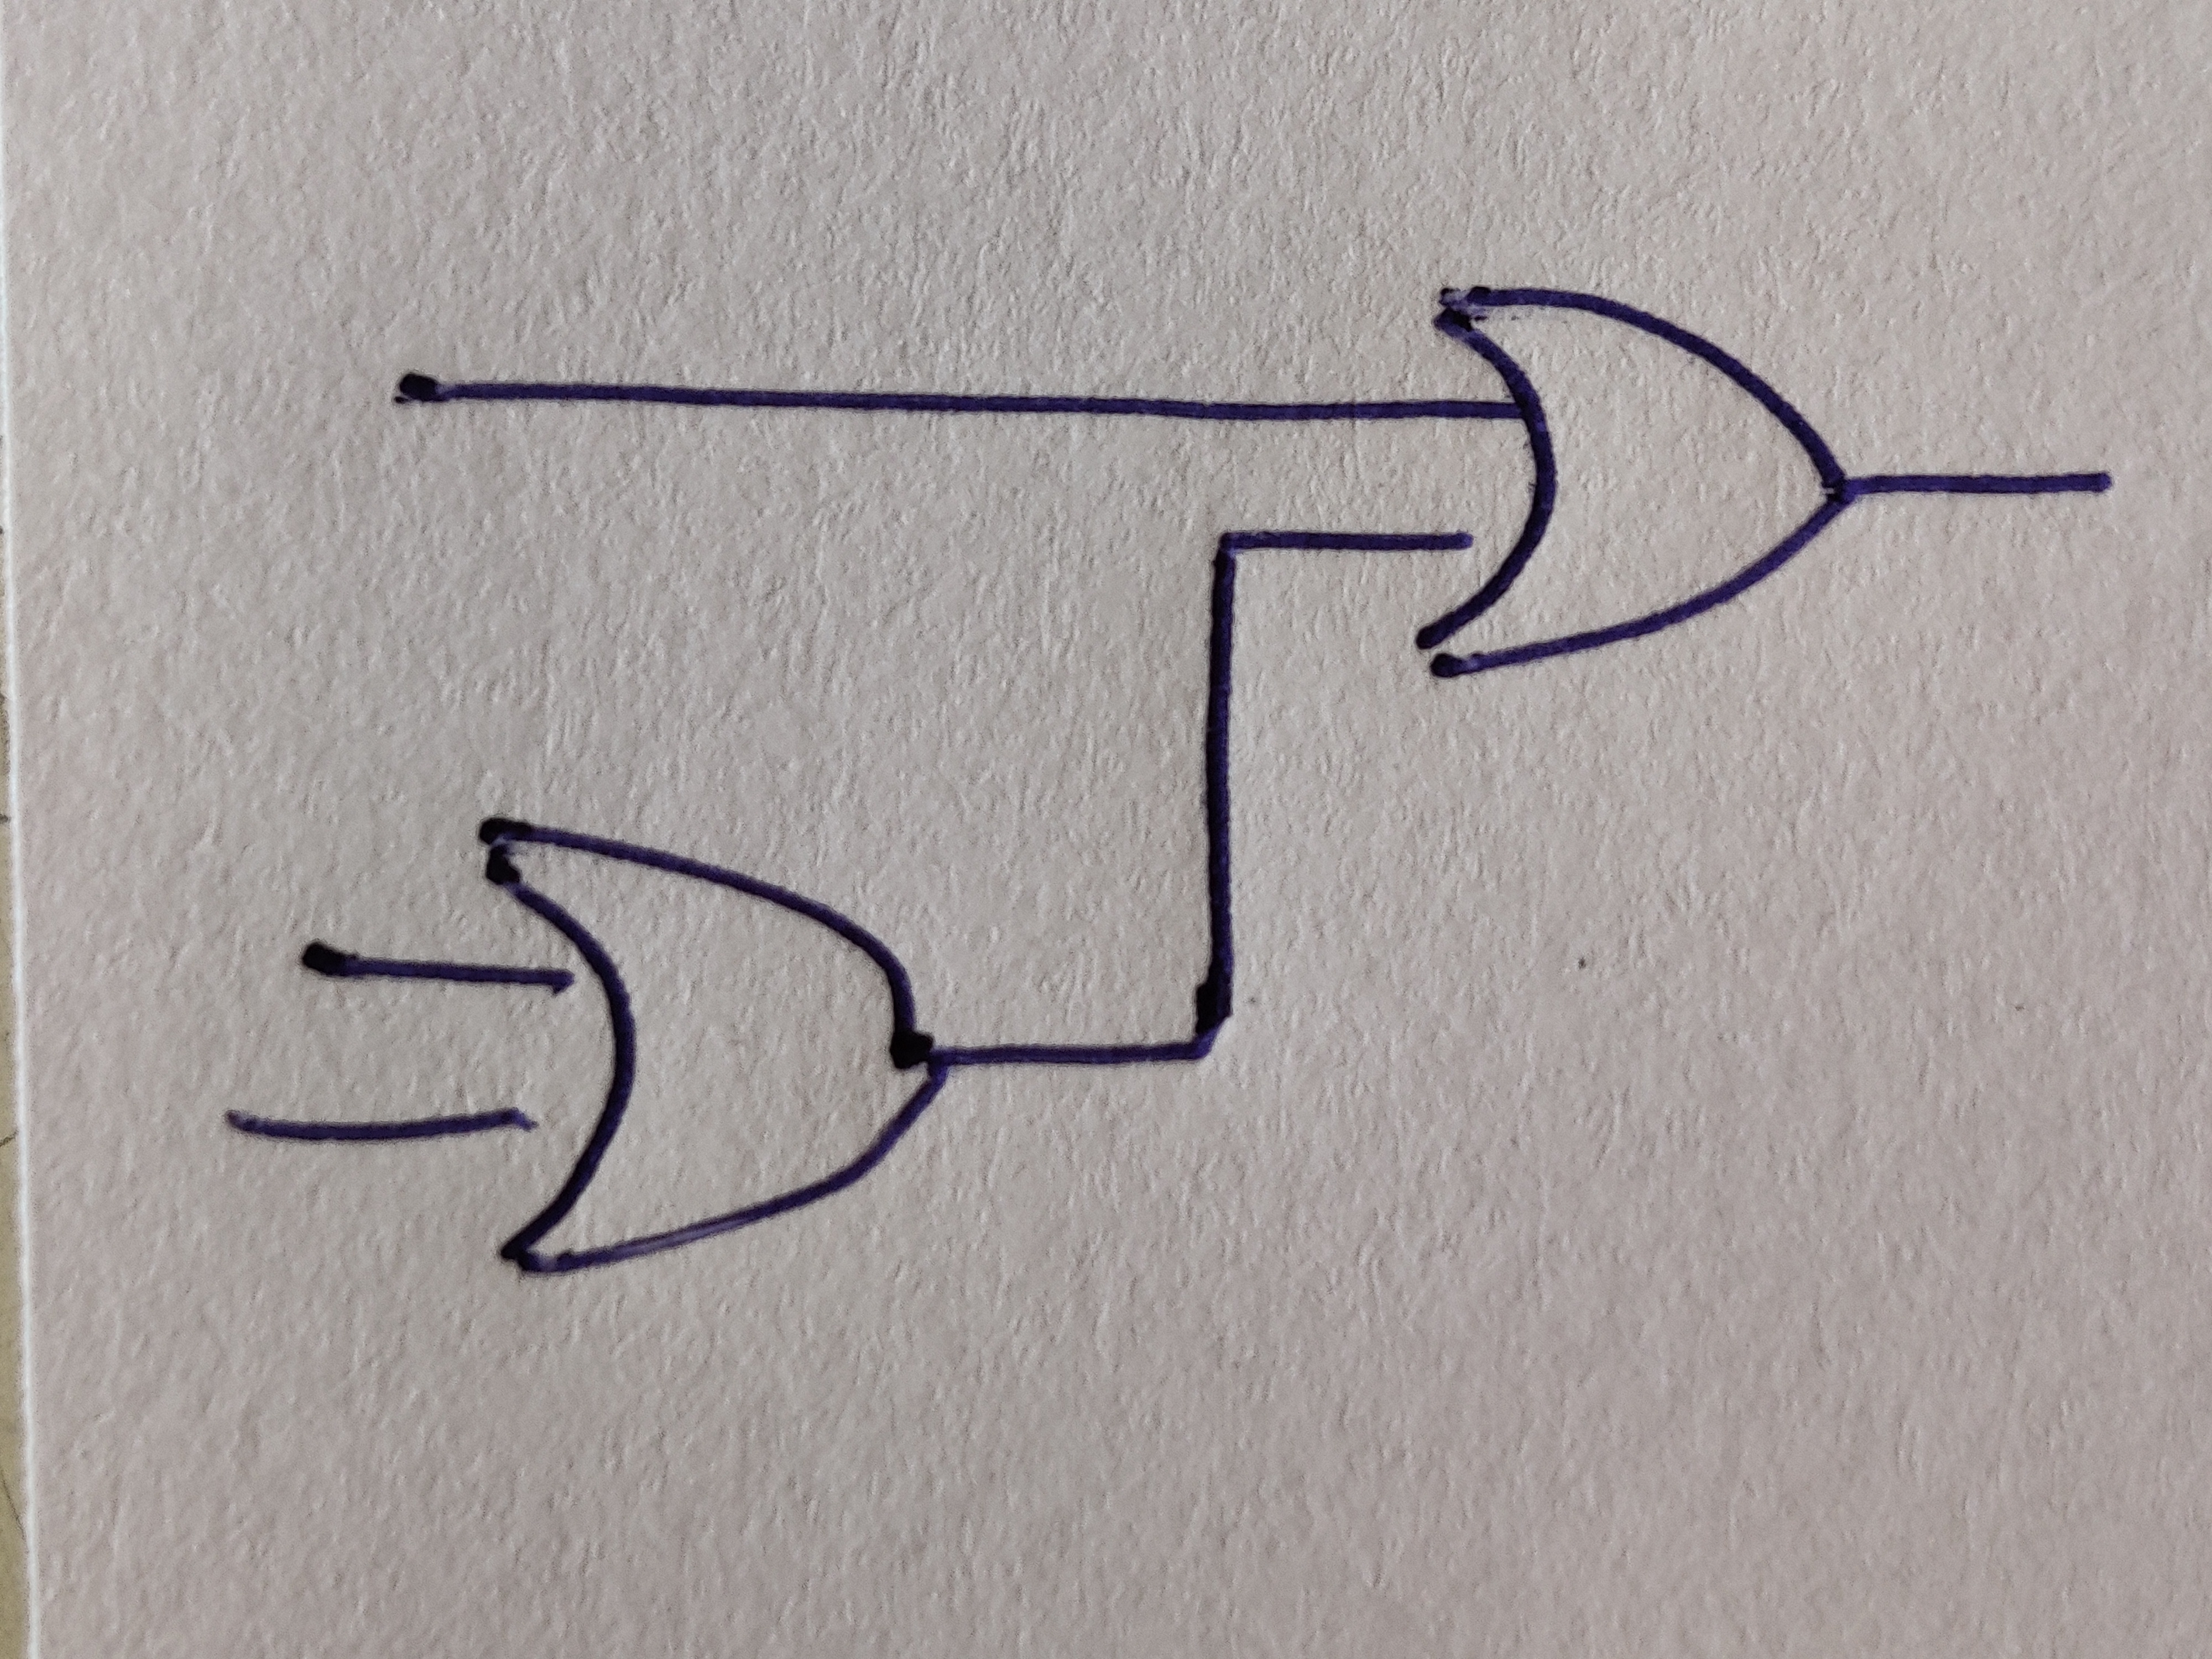or: (479, 817, 949, 1274), (1418, 286, 1858, 678)
